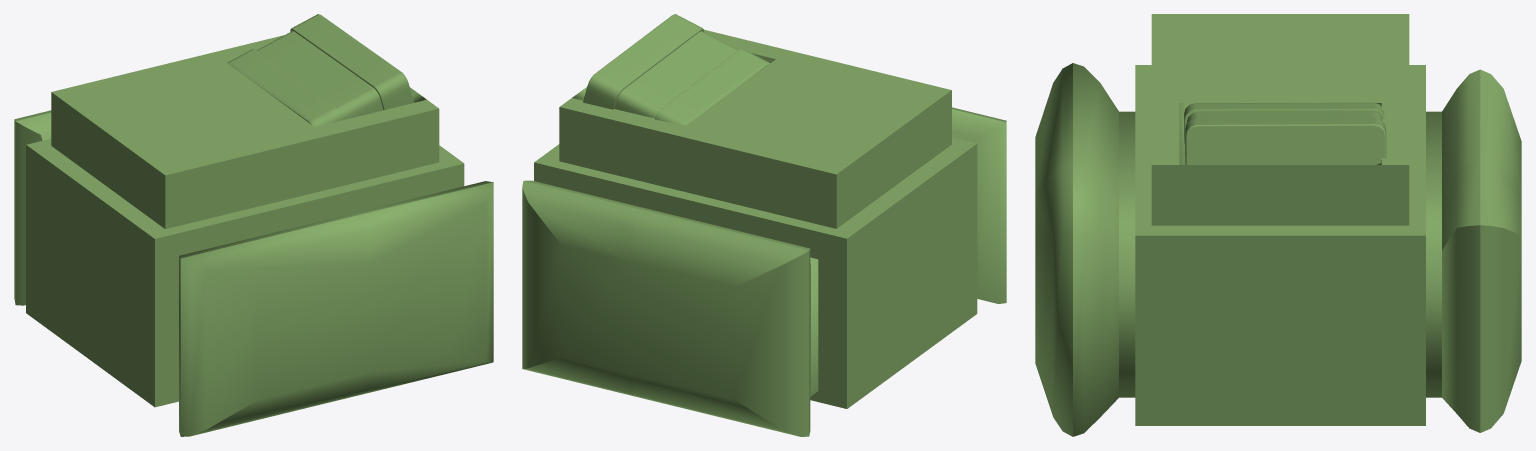
File: BatteryToUnity2.fbx
The picture shows the model from 3 angles, left to right: view 1: azimuth 30°, elevation 25°; view 2: azimuth 150°, elevation 25°; view 3: azimuth 270°, elevation 25°; orthographic projection. The views are drawn at different scales.
Parts seen in each view (by area): view 1: BatteryCharger, Battery; view 2: BatteryCharger, Battery; view 3: BatteryCharger, Battery.
Part boxes in pixels (bbox=[...]): BatteryCharger: bbox=[14, 35, 493, 436]; Battery: bbox=[227, 14, 413, 126]; BatteryCharger: bbox=[522, 29, 1006, 436]; Battery: bbox=[583, 14, 769, 125]; BatteryCharger: bbox=[1035, 14, 1521, 436]; Battery: bbox=[1184, 102, 1386, 164].
Size of the model in its own units: 15.59 by 12.47 by 18.58.
